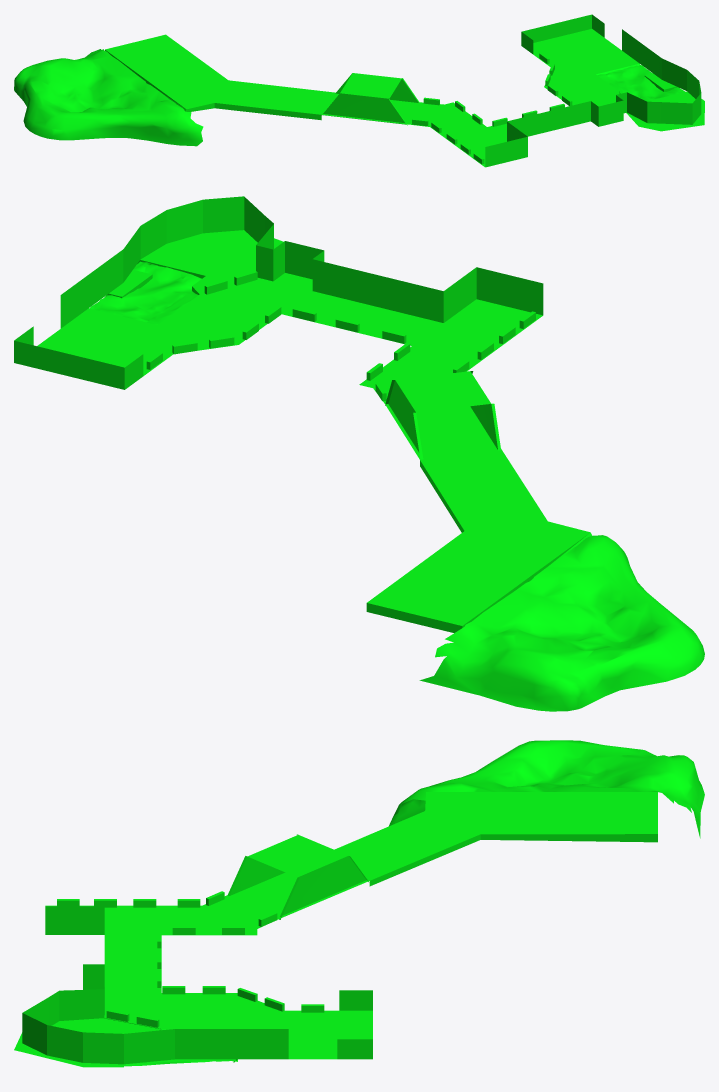
File: Scene_P_Collider.FBX
3 views of the same model, one above another, from view 1: azimuth 30°, elevation 25°; view 2: azimuth 150°, elevation 25°; view 3: azimuth 270°, elevation 25° (orthographic). The views are drawn at different scales.
Visible parts, largest first — view 1: scene_Collider; view 2: scene_Collider; view 3: scene_Collider.
Part boxes in pixels (left/top/right/bottom): scene_Collider: left=14, top=14, right=704, bottom=167; scene_Collider: left=14, top=196, right=704, bottom=711; scene_Collider: left=14, top=740, right=704, bottom=1067.
Bounding box in the file's own units: 49290 × 4641 × 40859.
